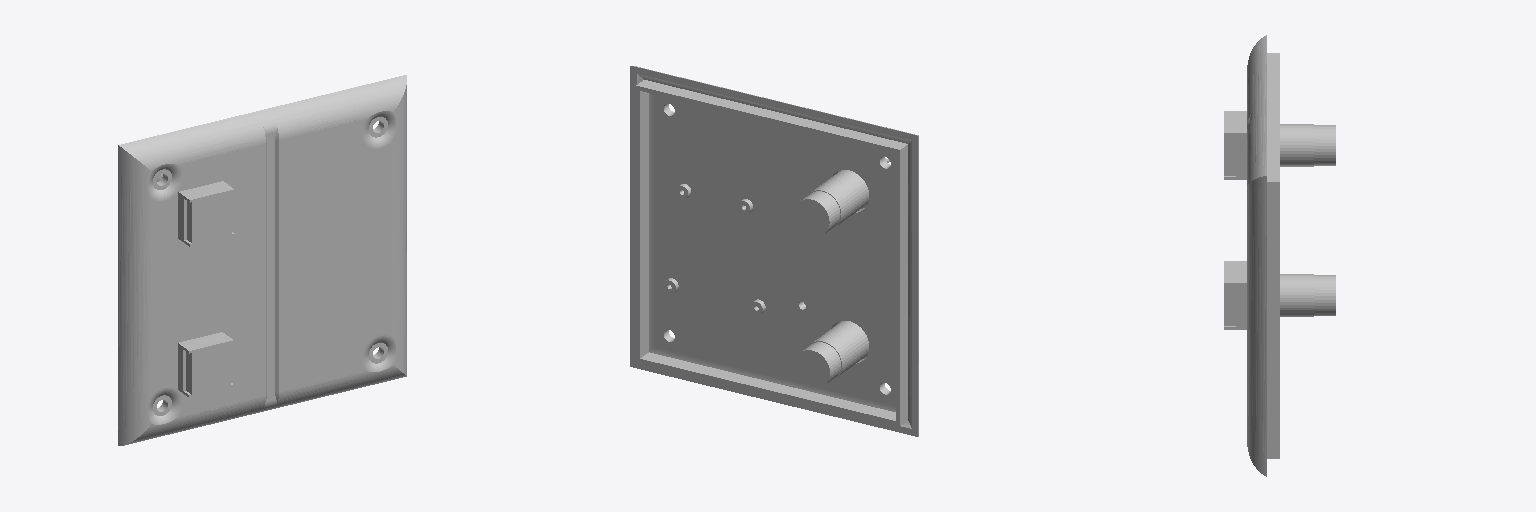
The model's file is VR Button Box assembly.obj.
3 renders of one model, left to right at view 1: azimuth 30°, elevation 25°; view 2: azimuth 150°, elevation 25°; view 3: azimuth 270°, elevation 25°, orthographic.
Parts seen in each view (by area): view 1: Solid1, Solid1:3, Solid1:4, Solid1:1, Solid1:2; view 2: Solid1, Solid1:1, Solid1:2; view 3: Solid1, Solid1:2, Solid1:1.
Part boxes in pixels (x1,y1,x2,y2): Solid1: (118,75,406,445); Solid1:3: (186,344,230,394); Solid1:4: (187,193,231,243); Solid1:1: (157,174,234,246); Solid1:2: (178,332,233,397); Solid1: (630,66,918,436); Solid1:1: (794,158,889,236); Solid1:2: (795,321,868,387); Solid1: (1247,35,1279,476); Solid1:2: (1224,261,1335,329); Solid1:1: (1224,111,1335,179).
Bounding box in the file's own units: 4.5 × 4.5 × 1.51.